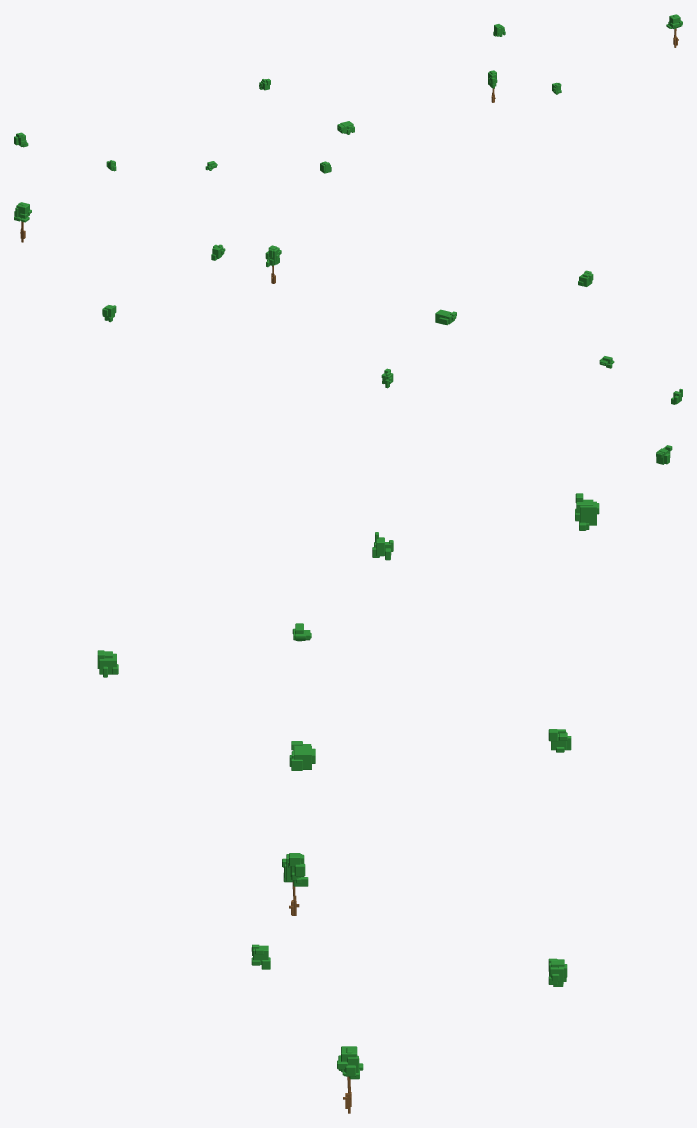
Rendered from 6.1.foliage.init.fbx.
3 views of the same model, one above another, from view 1: azimuth 30°, elevation 25°; view 2: azimuth 150°, elevation 25°; view 3: azimuth 270°, elevation 25° (orthographic). The views are drawn at different scales.
Bounding box in the file's own units: 823 × 43.77 × 295.
